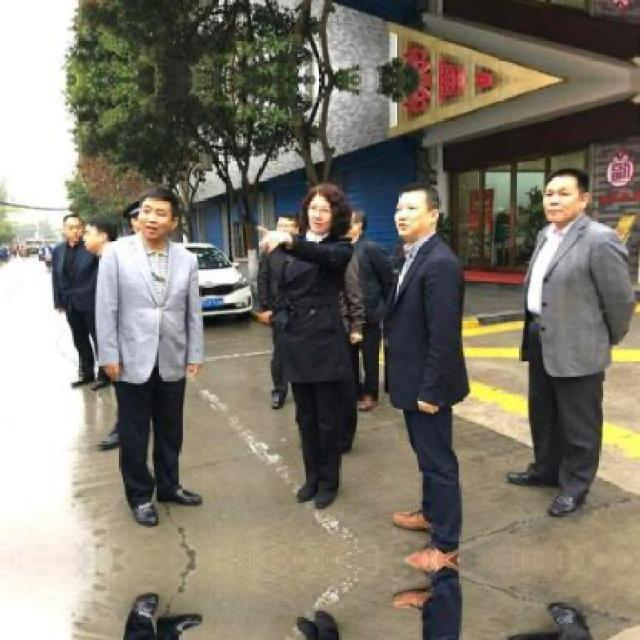sin casco: (519, 154, 603, 230), (113, 187, 220, 242), (392, 181, 449, 247), (309, 181, 355, 237)
